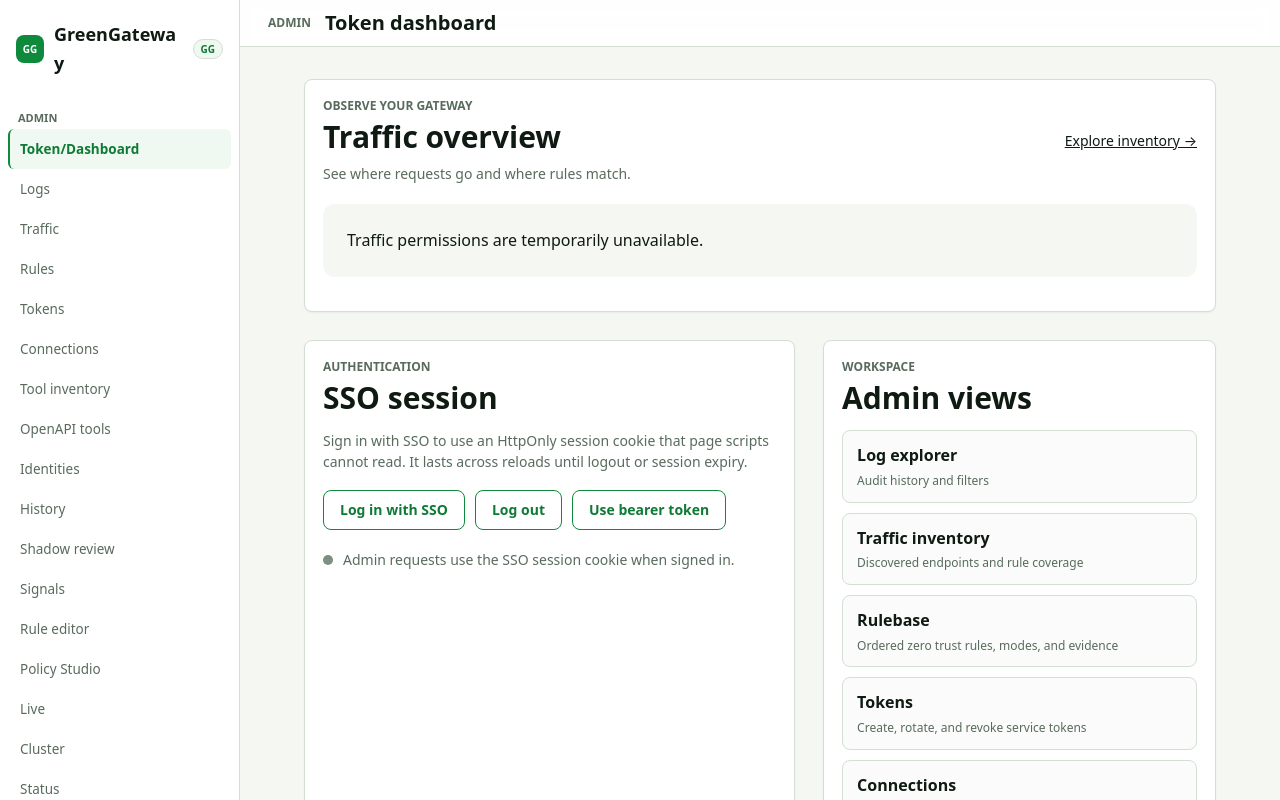
Test case: AdminShell › logs out of the cookie session through the shared client with the CSRF header
Click the button "Log out" at point(518, 510), box [475, 490, 562, 530]
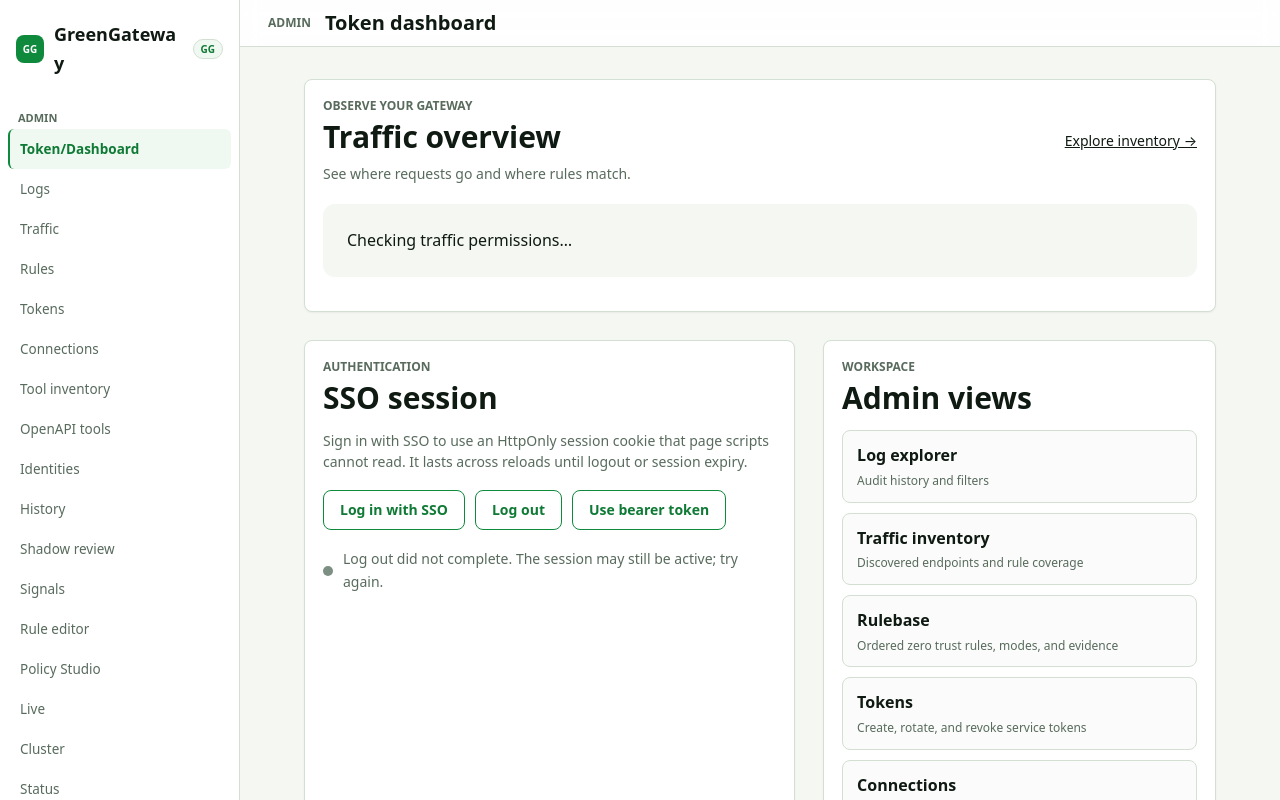
Check: the text "Log out did not complete. The session may still be active; try again." is shown, box [343, 548, 776, 593]
Click the button "Log out" at point(518, 510), box [475, 490, 562, 530]
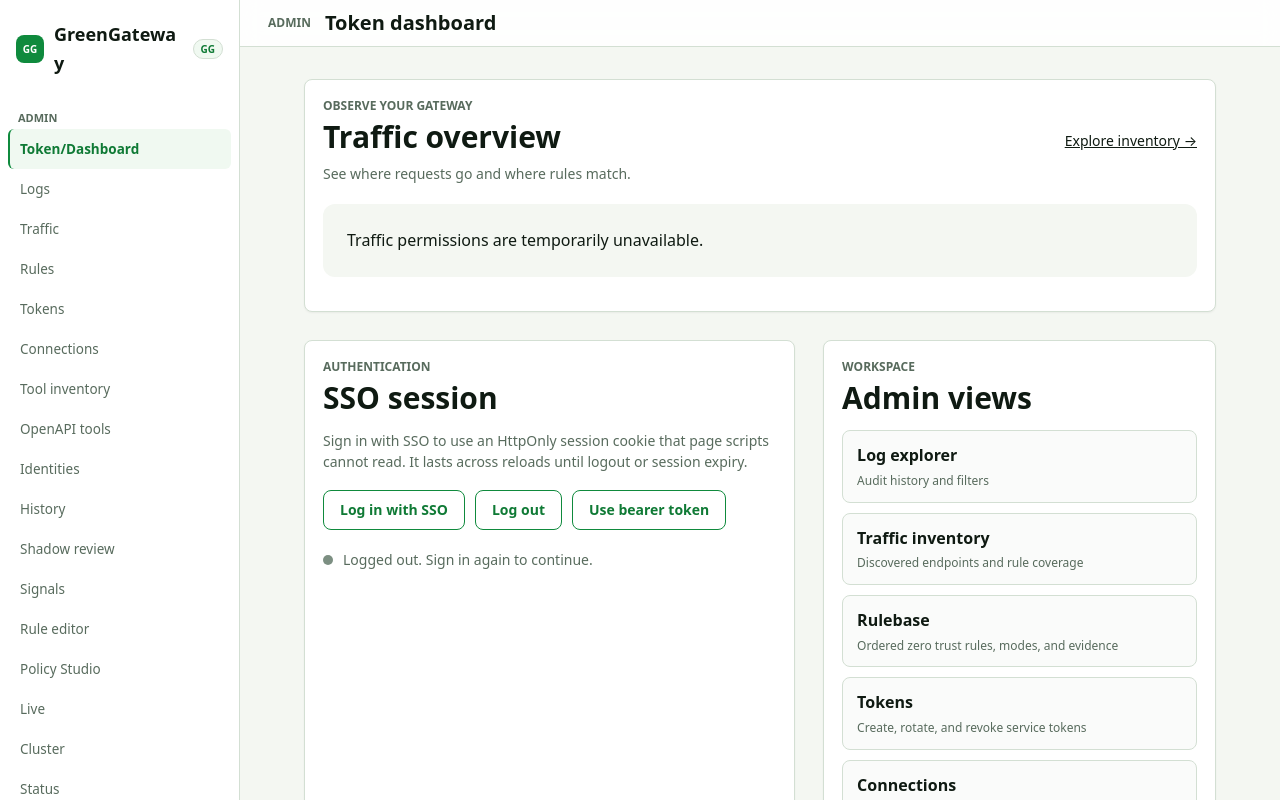
Check: the text "Logged out. Sign in again to continue." is shown, box [343, 549, 593, 571]
